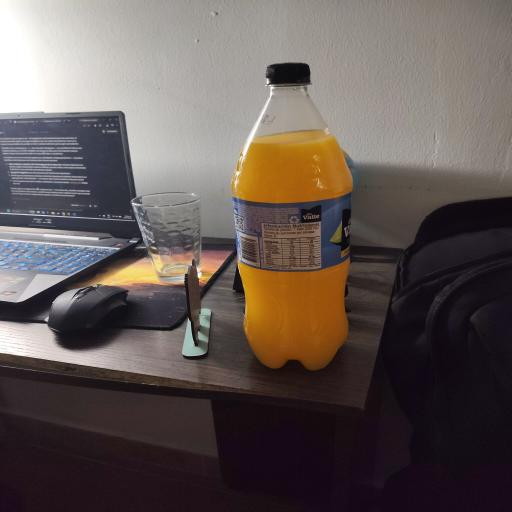Jugo del valle: (232, 63, 352, 369)
